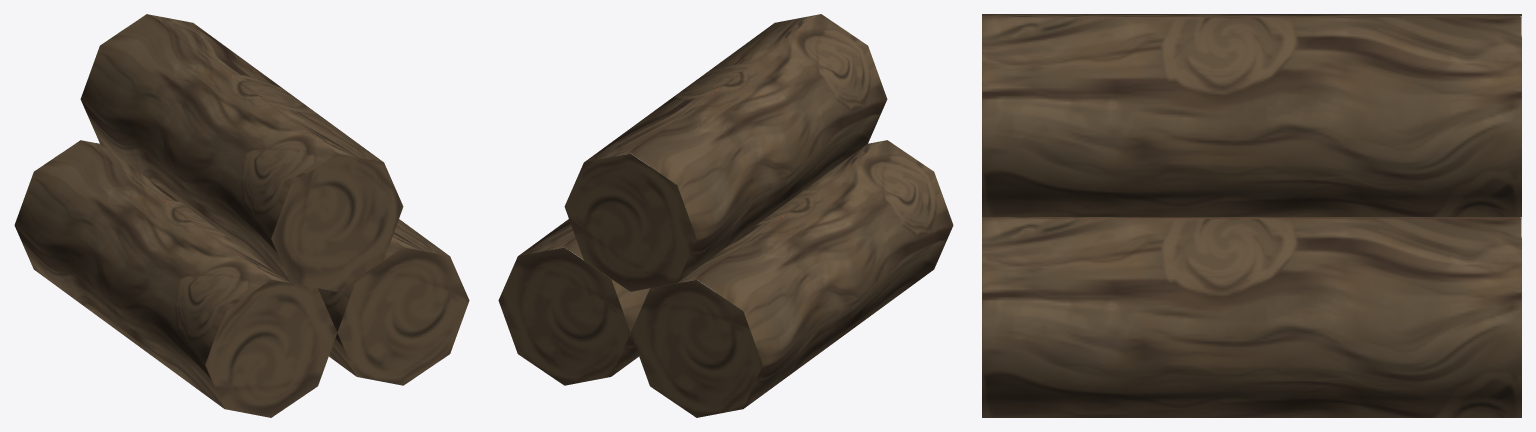
File: OakWood.fbx
3 views of the same model, side by side, from view 1: azimuth 30°, elevation 25°; view 2: azimuth 150°, elevation 25°; view 3: azimuth 270°, elevation 25° (orthographic). The views are drawn at different scales.
Parts seen in each view (by area): view 1: OakWood; view 2: OakWood; view 3: OakWood.
Boxes of the visible parts, bbox=[...] form: OakWood: bbox=[14, 14, 469, 417]; OakWood: bbox=[498, 14, 953, 417]; OakWood: bbox=[982, 14, 1521, 417].
Size of the model in its own units: 40 by 35.9 by 50.
